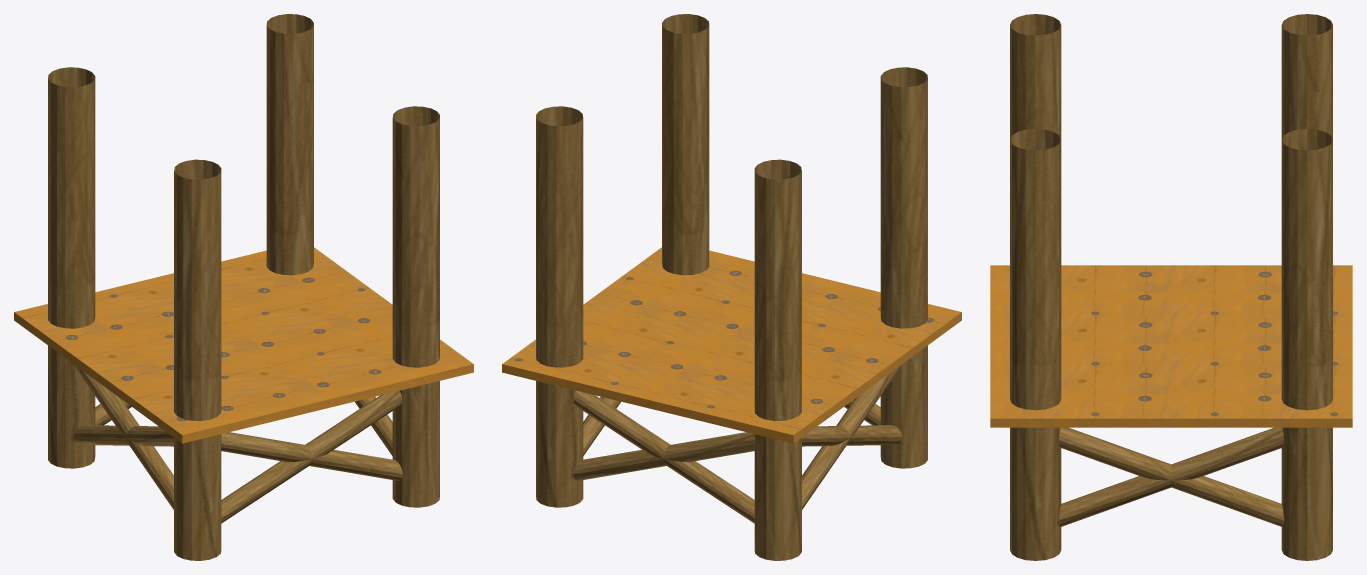
File: GroundPlatformExtensionContinous.fbx
3 views of the same model, side by side, from view 1: azimuth 30°, elevation 25°; view 2: azimuth 150°, elevation 25°; view 3: azimuth 270°, elevation 25° (orthographic). The views are drawn at different scales.
Parts seen in each view (by area): view 1: GroundPlatformExtensionContinous; view 2: GroundPlatformExtensionContinous; view 3: GroundPlatformExtensionContinous.
Part boxes in pixels (bbox=[...]): GroundPlatformExtensionContinous: bbox=[14, 14, 473, 560]; GroundPlatformExtensionContinous: bbox=[502, 14, 961, 560]; GroundPlatformExtensionContinous: bbox=[990, 14, 1352, 560].
Size of the model in its own units: 160 by 200 by 160.
